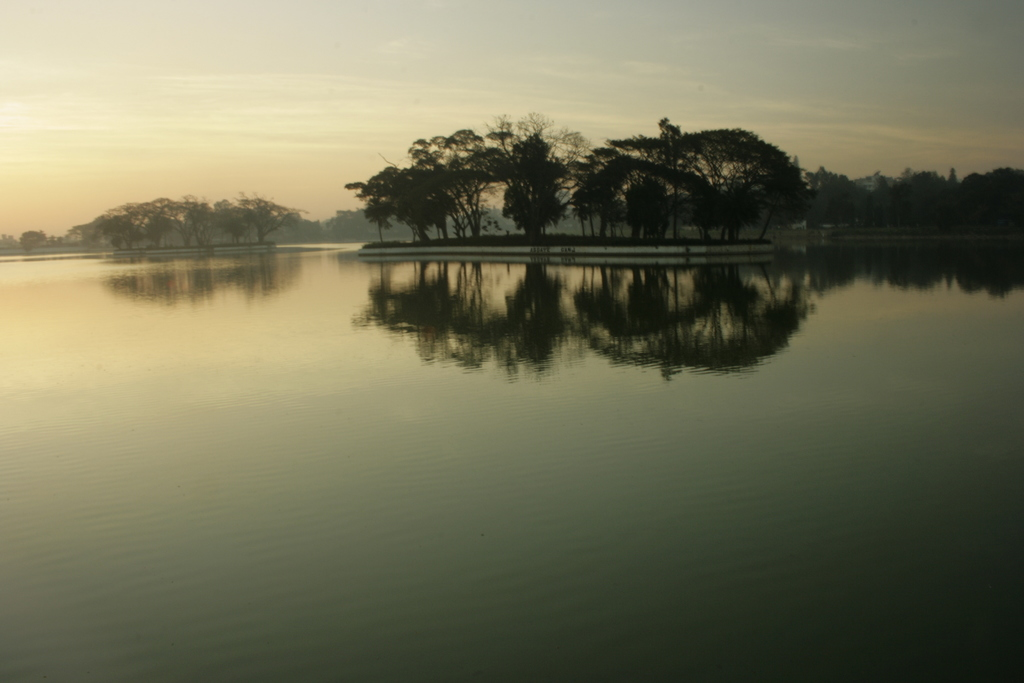Tree: (332, 105, 618, 250), (616, 118, 821, 236), (61, 189, 298, 253), (802, 168, 1020, 226), (15, 222, 57, 256)
